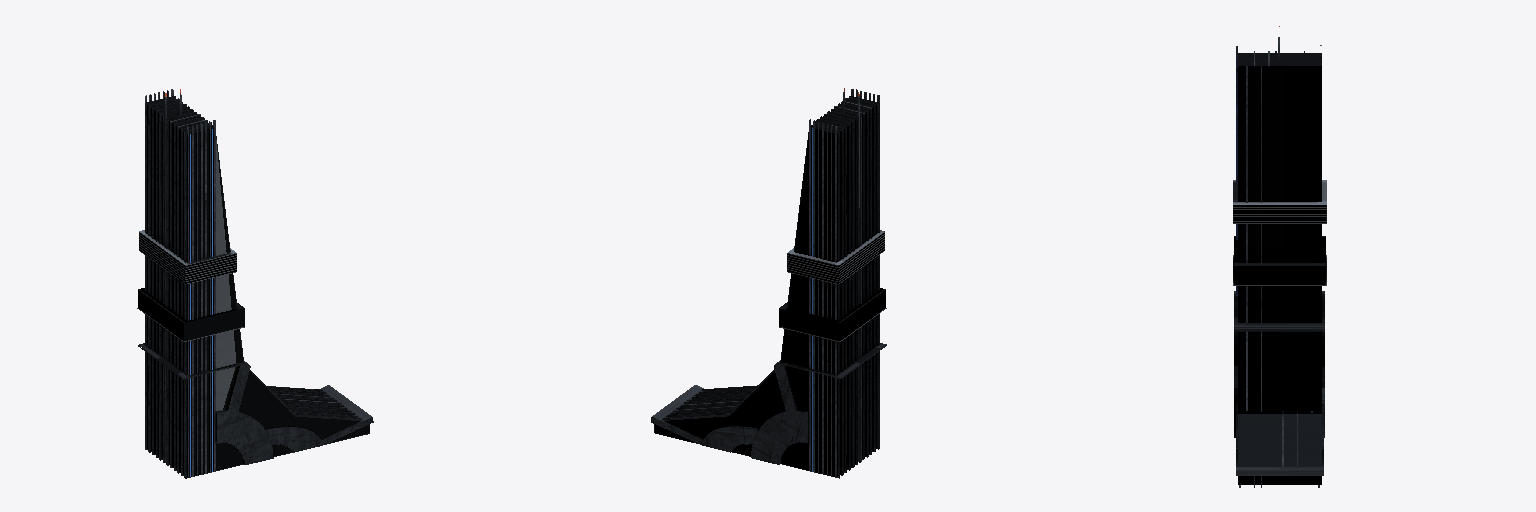
3 views of the same model, side by side, from view 1: azimuth 30°, elevation 25°; view 2: azimuth 150°, elevation 25°; view 3: azimuth 270°, elevation 25° (orthographic).
Visible parts, largest first — view 1: Circle.001_Circle.002; view 2: Circle.001_Circle.002; view 3: Circle.001_Circle.002.
Part boxes in pixels (x1,y1,x2,y2): Circle.001_Circle.002: (137,89,373,478); Circle.001_Circle.002: (651,88,886,478); Circle.001_Circle.002: (1233,26,1326,487).
Bounding box in the file's own units: 1.87 × 3.47 × 0.7867.
6 materials, 1 textured.